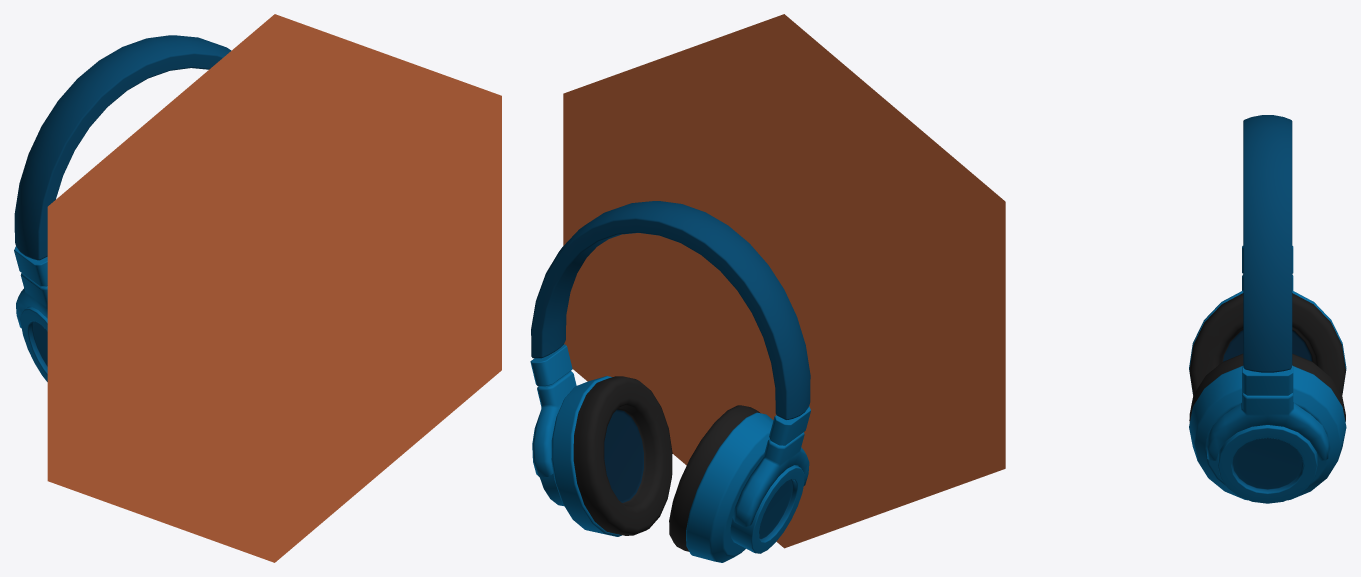
File: headphone_animation.fbx
3 renders of one model, left to right at view 1: azimuth 30°, elevation 25°; view 2: azimuth 150°, elevation 25°; view 3: azimuth 270°, elevation 25°, orthographic. The views are drawn at different scales.
Parts seen in each view (by area): view 1: background_01, Headphones_01; view 2: background_01, Headphones_01; view 3: Headphones_01.
Boxes of the visible parts, x1,y1,x2,y2 form: background_01: (47, 14, 501, 562); Headphones_01: (14, 35, 231, 381); background_01: (563, 14, 1005, 548); Headphones_01: (530, 201, 810, 562); Headphones_01: (1189, 115, 1346, 503).
Size of the model in its own units: 15.42 by 17.81 by 9.17.
Materials: 2 (1 with a texture image).
